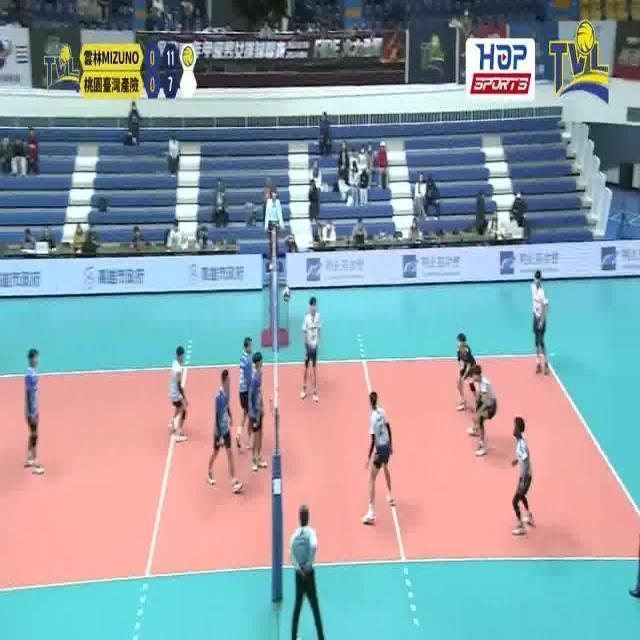volleyball: (282, 286, 290, 302)
